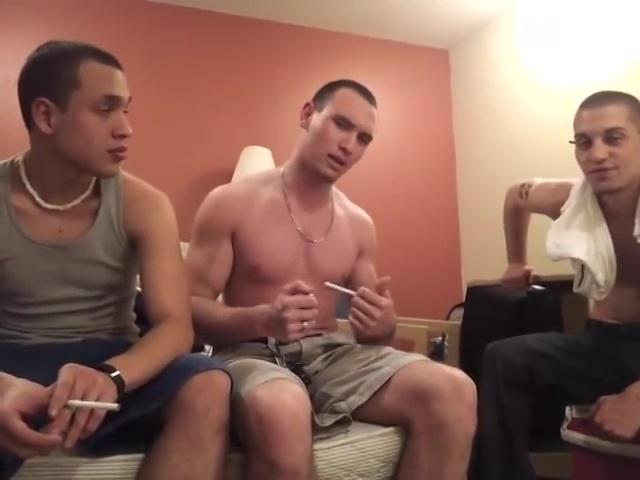cigarette: (66, 399, 122, 412), (323, 280, 360, 298)
